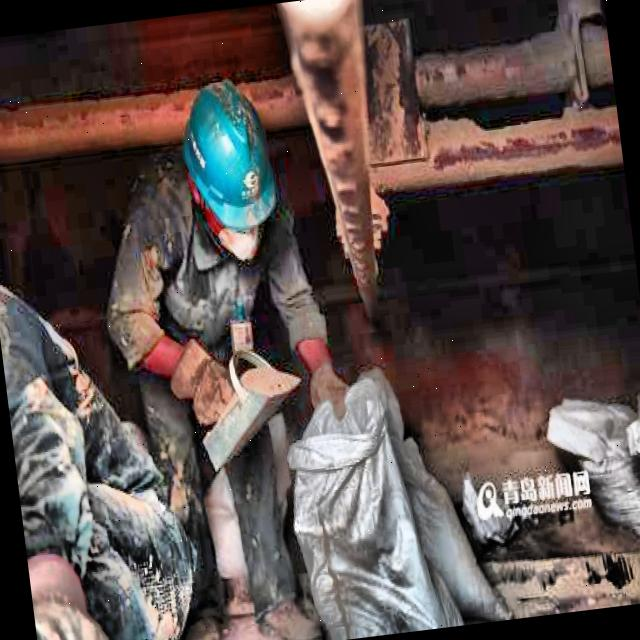helmet: (166, 72, 288, 265)
